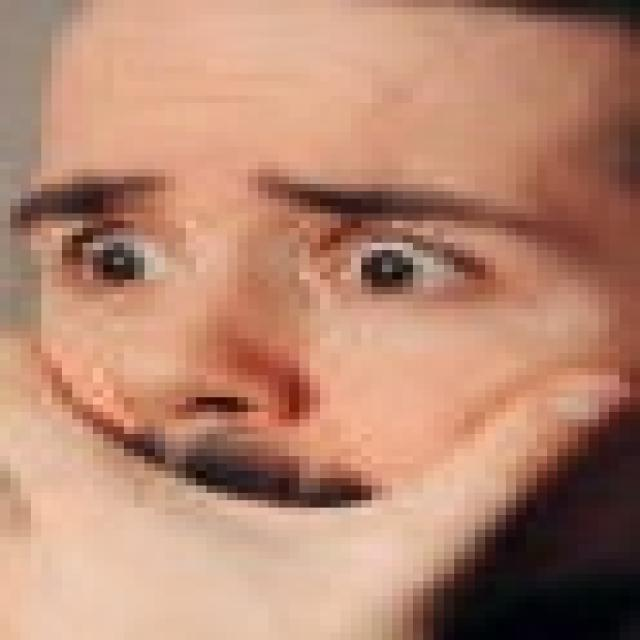Anxiety: (32, 2, 622, 620)
